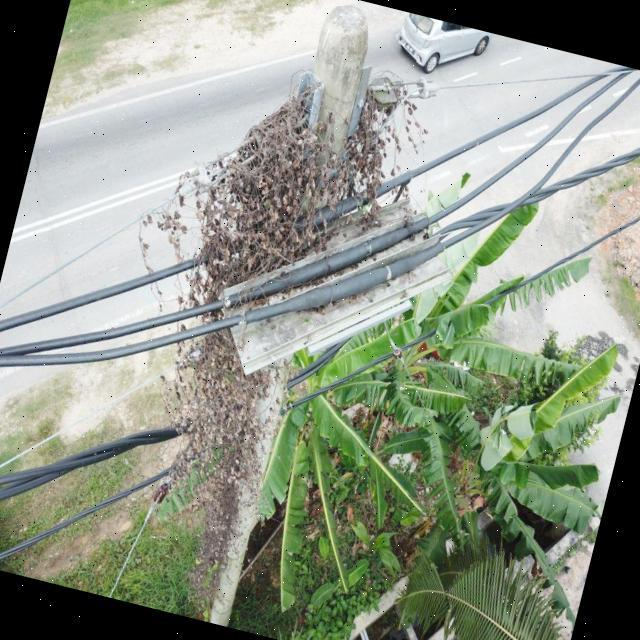critical vegetation: (38, 13, 451, 629)
